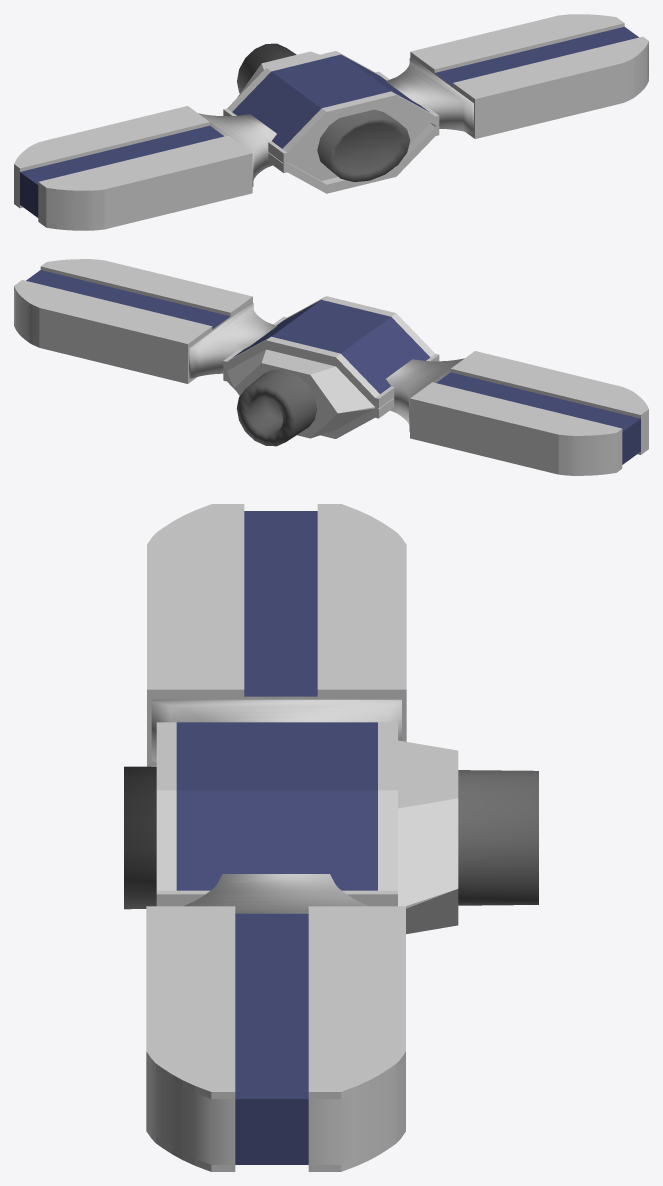
Rendered from ssw.fbx.
The picture shows the model from 3 angles, top to bottom: view 1: azimuth 30°, elevation 25°; view 2: azimuth 150°, elevation 25°; view 3: azimuth 270°, elevation 25°; orthographic projection. The views are drawn at different scales.
Visible parts, largest first — view 1: small_sat_weapon; view 2: small_sat_weapon; view 3: small_sat_weapon.
Part boxes in pixels (x1,y1,x2,y2): small_sat_weapon: (14,14,648,230); small_sat_weapon: (14,259,648,475); small_sat_weapon: (124,504,538,1171).
Size of the model in its own units: 2.36 by 0.3058 by 0.7028.
